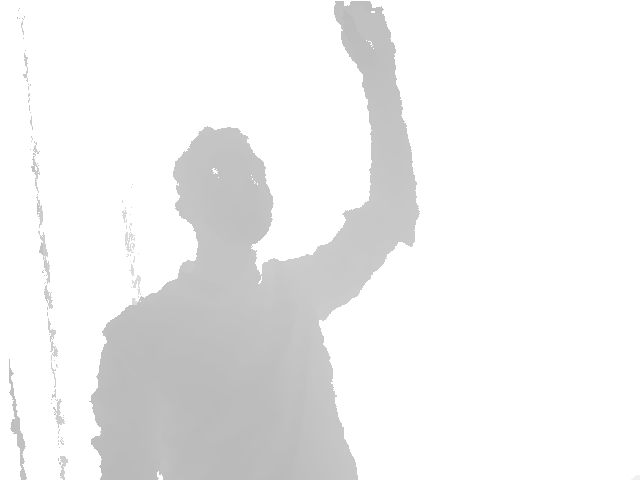hand: (334, 1, 398, 77)
head: (172, 126, 273, 248)
person: (91, 1, 420, 480)
